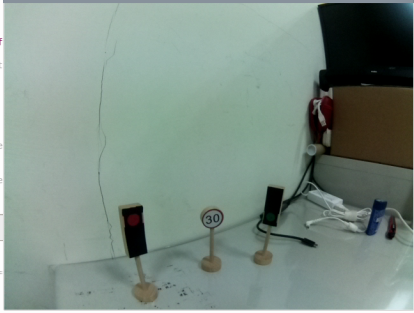Green: (259, 181, 285, 229)
Red: (117, 203, 154, 261)
Speed30: (200, 205, 225, 233)
